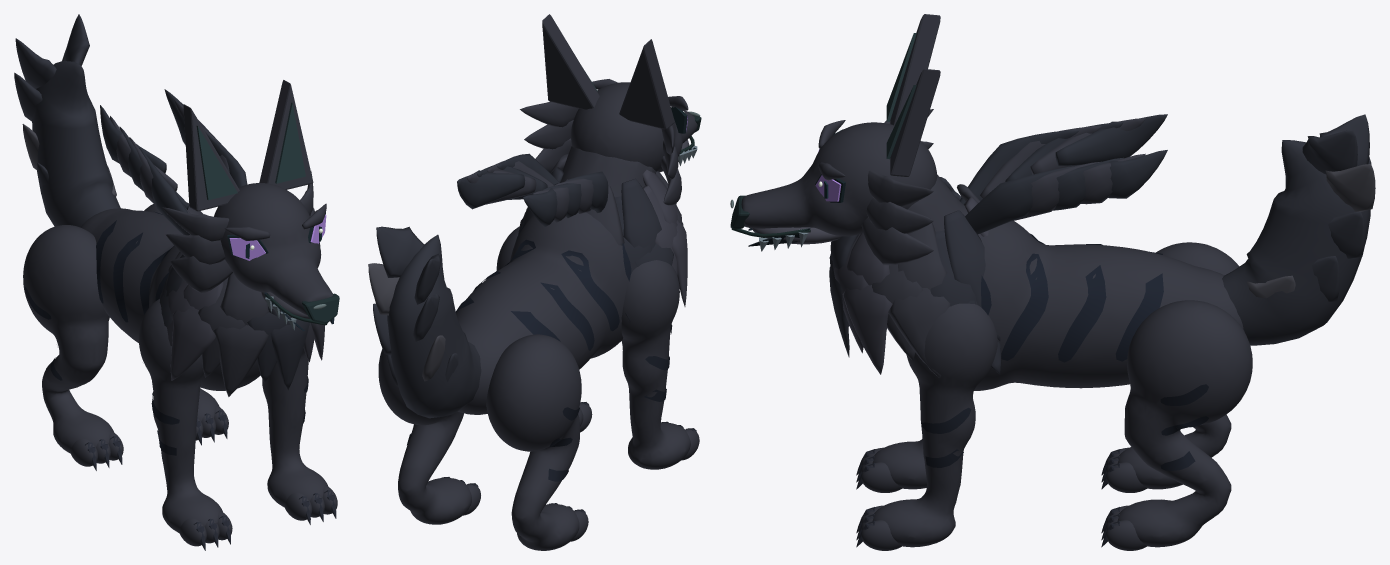
The model's file is noctyros.glb.
3 views of the same model, side by side, from view 1: azimuth 30°, elevation 25°; view 2: azimuth 150°, elevation 25°; view 3: azimuth 270°, elevation 25° (orthographic). The views are drawn at different scales.
Parts seen in each view (by area): view 1: Sculpted leftLeg, Full flowing tail, Sculpted skull and tapered muzzle, Sculpted leftArm, Sculpted rib cage, chest and neck, Sculpted rightArm, Layered flowing neck coat.021, Upright sculpted ear.001, Upright sculpted ear, Layered flowing neck coat.022, Layered flowing neck coat.020, Layered flowing neck coat.003 (+29 smaller); view 2: Sculpted rib cage, chest and neck, Sculpted leftLeg, Sculpted leftArm, Full flowing tail, Sculpted rightLeg, Sculpted skull and tapered muzzle, Upright sculpted ear.001, Upright sculpted ear, Layered flowing neck coat.005, Swept tail fringe.008, High swept shadow nape.009, Broad shadow-striped coat.001 (+25 smaller); view 3: Sculpted rib cage, chest and neck, Sculpted rightLeg, Full flowing tail, Sculpted rightArm, Sculpted skull and tapered muzzle, Sculpted leftLeg, High swept shadow nape.004, High swept shadow nape.005, Upright sculpted ear.001, Layered flowing neck coat.008, Layered flowing neck coat.019, Layered flowing neck coat.018 (+30 smaller).
Boxes of the visible parts, left/top/right/bottom form: Sculpted leftLeg: left=23, top=225, right=113, bottom=453; Full flowing tail: left=32, top=61, right=120, bottom=227; Sculpted skull and tapered muzzle: left=214, top=183, right=332, bottom=315; Sculpted leftArm: left=138, top=299, right=222, bottom=532; Sculpted rib cage, chest and neck: left=80, top=208, right=260, bottom=390; Sculpted rightArm: left=262, top=348, right=327, bottom=507; Layered flowing neck coat.021: left=214, top=325, right=268, bottom=396; Upright sculpted ear.001: left=259, top=80, right=313, bottom=189; Upright sculpted ear: left=183, top=104, right=239, bottom=211; Layered flowing neck coat.022: left=170, top=308, right=215, bottom=380; Layered flowing neck coat.020: left=270, top=319, right=309, bottom=390; Layered flowing neck coat.003: left=220, top=273, right=269, bottom=325; Sculpted rib cage, chest and neck: left=456, top=146, right=656, bottom=414; Sculpted leftLeg: left=486, top=334, right=581, bottom=550; Sculpted leftArm: left=621, top=260, right=690, bottom=469; Full flowing tail: left=387, top=234, right=481, bottom=418; Sculpted rightLeg: left=378, top=349, right=471, bottom=524; Sculpted skull and tapered muzzle: left=571, top=82, right=697, bottom=171; Upright sculpted ear.001: left=542, top=14, right=599, bottom=109; Upright sculpted ear: left=619, top=39, right=674, bottom=129; Layered flowing neck coat.005: left=621, top=178, right=661, bottom=248; Swept tail fringe.008: left=376, top=226, right=424, bottom=277; High swept shadow nape.009: left=457, top=170, right=525, bottom=209; Broad shadow-striped coat.001: left=561, top=250, right=619, bottom=331; Sculpted rib cage, chest and neck: left=908, top=175, right=1244, bottom=390; Sculpted rightLeg: left=1117, top=300, right=1252, bottom=547; Full flowing tail: left=1222, top=140, right=1370, bottom=345; Sculpted rightArm: left=872, top=303, right=997, bottom=547; Sculpted skull and tapered muzzle: left=741, top=122, right=937, bottom=236; Sculpted leftLeg: left=1117, top=242, right=1239, bottom=489; High swept shadow nape.004: left=1055, top=114, right=1167, bottom=165; High swept shadow nape.005: left=965, top=166, right=1075, bottom=234; Upright sculpted ear.001: left=890, top=69, right=940, bottom=176; Layered flowing neck coat.008: left=944, top=210, right=1000, bottom=340; Layered flowing neck coat.019: left=842, top=285, right=892, bottom=374; Layered flowing neck coat.018: left=888, top=288, right=950, bottom=378.
Bounding box in the file's own units: 0.8164 × 1.8 × 2.23.
